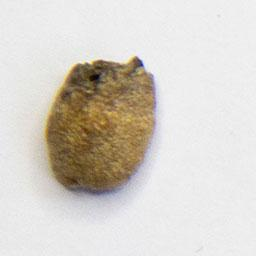defect: (43, 53, 158, 194)
